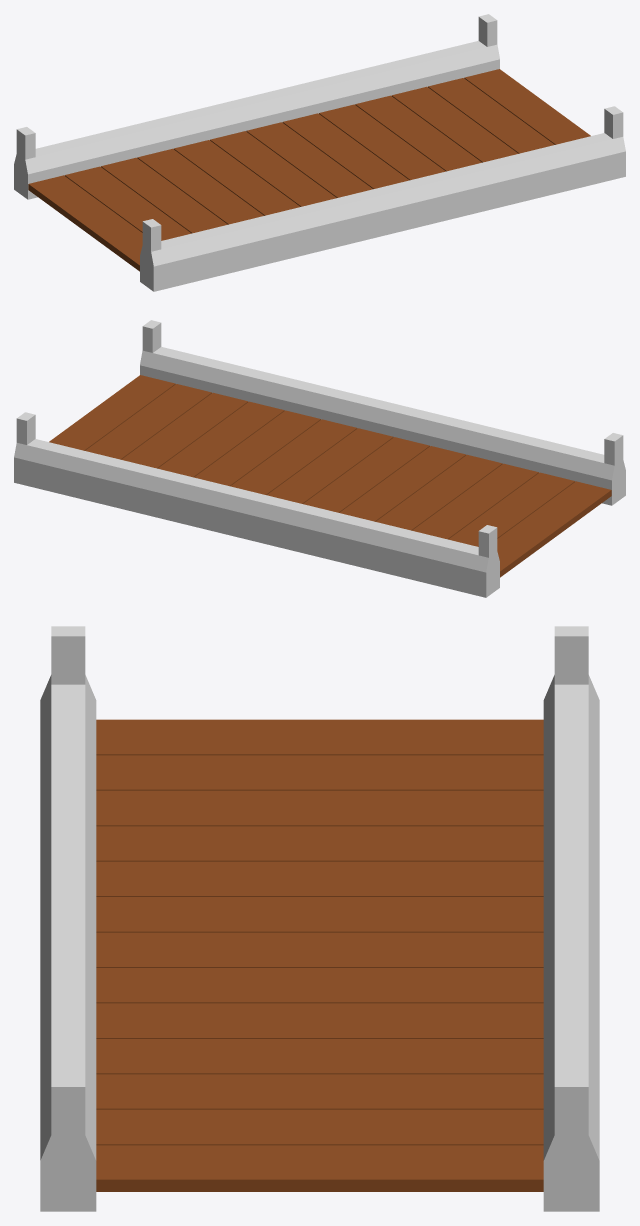
The model's file is bridge.fbx.
3 views of the same model, one above another, from view 1: azimuth 30°, elevation 25°; view 2: azimuth 150°, elevation 25°; view 3: azimuth 270°, elevation 25° (orthographic). The views are drawn at different scales.
Visible parts, largest first — view 1: Cube, Cube.014, Cube.007, Cube.005, Cube.010, Cube.012, Cube.002, Cube.003, Cube.011, Cube.013, Cube.001, Cube.004 (+3 smaller); view 2: Cube.014, Cube, Cube.007, Cube.005, Cube.010, Cube.012, Cube.002, Cube.003, Cube.011, Cube.013, Cube.001, Cube.004 (+3 smaller); view 3: Cube, Cube.014, Cube.008, Cube.005, Cube.007, Cube.009, Cube.002, Cube.001, Cube.003, Cube.004, Cube.006, Cube.010 (+3 smaller).
Boxes of the visible parts, x1,y1,x2,y2 form: Cube: (140,106,625,291); Cube.014: (14,14,499,199); Cube.007: (28,175,142,271); Cube.005: (101,157,227,233); Cube.010: (391,86,518,162); Cube.012: (319,104,445,180); Cube.002: (246,122,372,197); Cube.003: (173,140,300,215); Cube.011: (355,95,481,171); Cube.013: (282,113,409,188); Cube.001: (210,131,336,206); Cube.004: (137,148,263,224); Cube.014: (14,412,499,597); Cube: (140,320,625,505); Cube.007: (497,481,611,577); Cube.005: (412,463,538,539); Cube.010: (121,392,248,468); Cube.012: (194,410,320,486); Cube.002: (267,428,393,503); Cube.003: (339,446,466,521); Cube.011: (158,401,284,477); Cube.013: (230,419,357,494); Cube.001: (303,437,429,512); Cube.004: (376,454,502,530); Cube: (40,626,96,1211); Cube.014: (543,626,599,1211); Cube.008: (96,1145,543,1191); Cube.005: (96,790,543,826); Cube.007: (96,719,543,755); Cube.009: (96,1109,543,1145); Cube.002: (96,932,543,967); Cube.001: (96,897,543,932); Cube.003: (96,861,543,896); Cube.004: (96,826,543,861); Cube.006: (96,755,543,790); Cube.010: (96,1074,543,1109).
Bounding box in the file's own units: 3899 × 492 × 2000.
